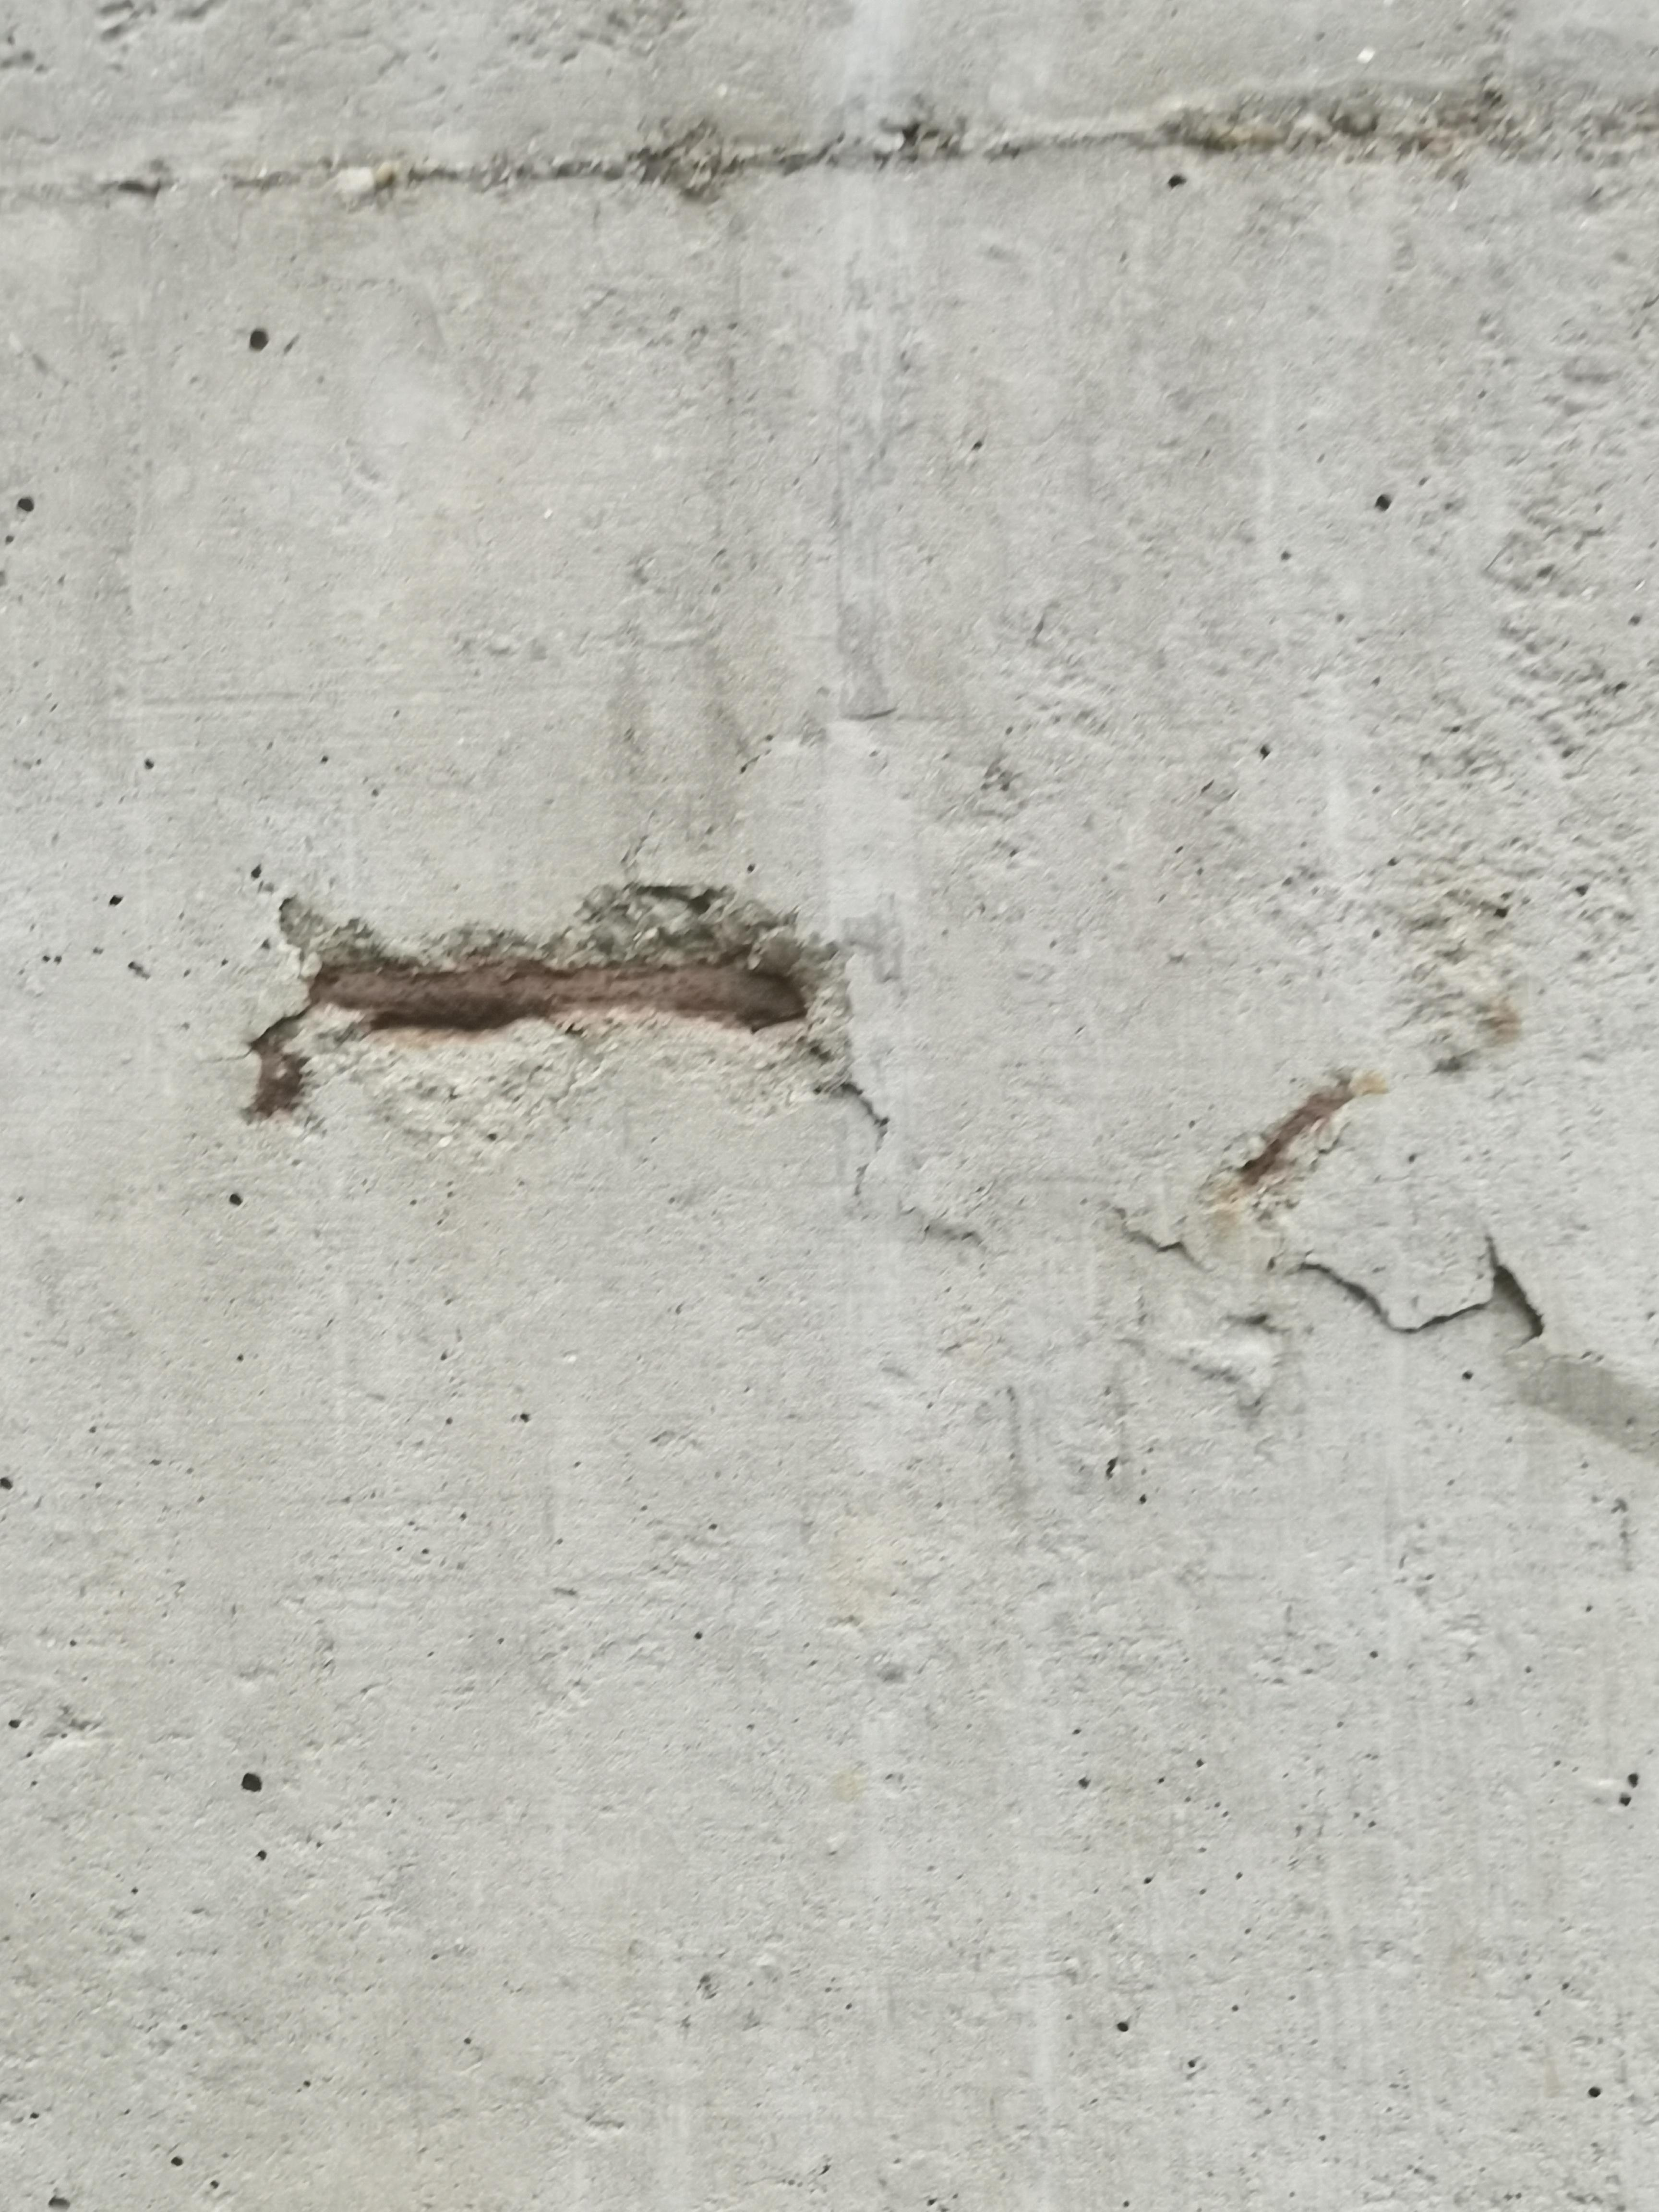hole: (1162, 169, 1188, 195), (237, 1771, 265, 1796), (247, 327, 270, 352), (225, 1191, 244, 1211), (16, 498, 37, 516), (1375, 493, 1392, 512), (106, 892, 125, 909), (1586, 2083, 1601, 2102), (1114, 2019, 1133, 2034), (1615, 1792, 1633, 1808), (0, 1475, 12, 1496), (1628, 1771, 1640, 1789)
rebar: (310, 946, 807, 1035), (1239, 1096, 1340, 1188)
separation: (1098, 1179, 1553, 1372)
spall: (244, 871, 856, 1137)
